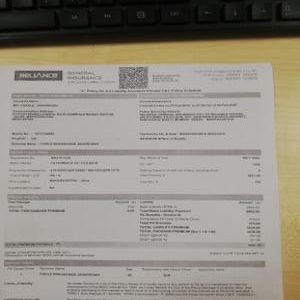image: (11, 69, 64, 82)
table: (9, 192, 263, 239), (7, 149, 261, 194), (2, 258, 264, 299)
text: (10, 89, 261, 147), (1, 241, 266, 264), (190, 66, 260, 82)
